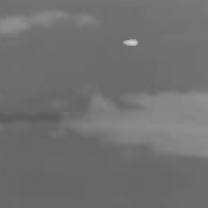Target: (122, 38, 139, 47)
